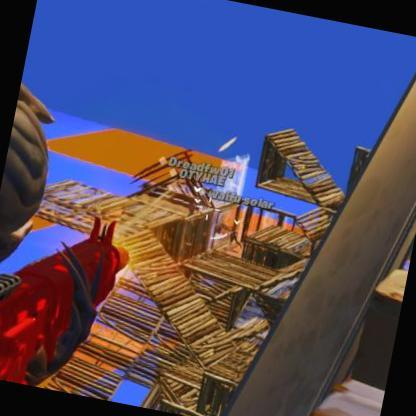person: (226, 230, 239, 248)
